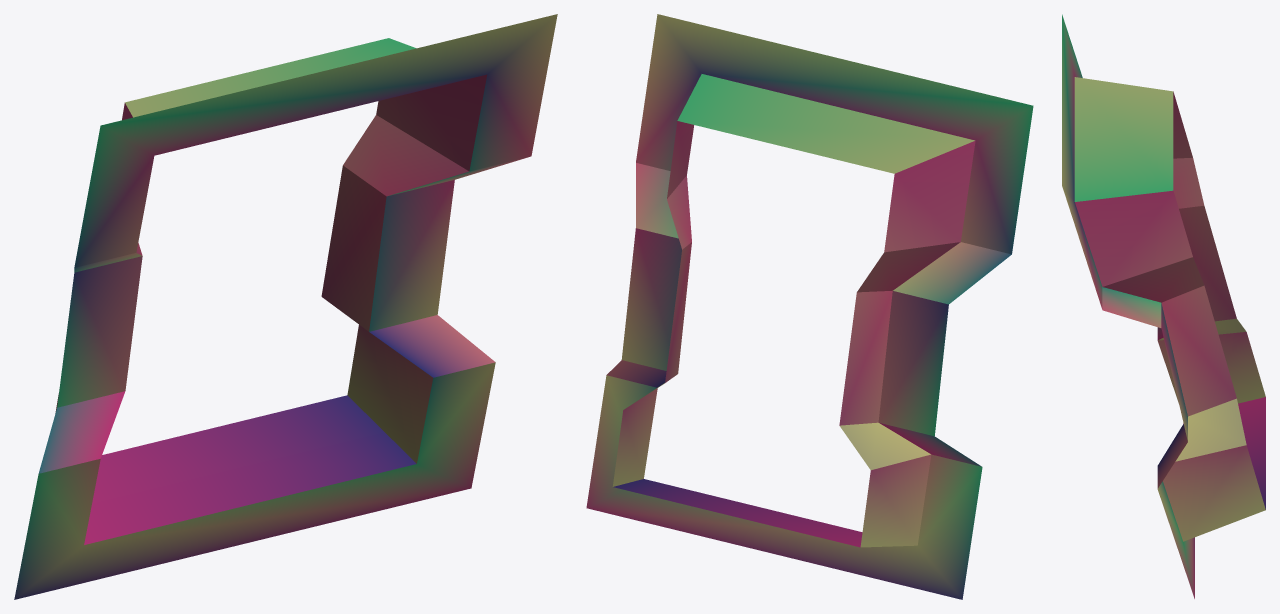
The model's file is Eff_Nostradamus_weapon09.fbx.
The picture shows the model from 3 angles, left to right: view 1: azimuth 30°, elevation 25°; view 2: azimuth 150°, elevation 25°; view 3: azimuth 270°, elevation 25°; orthographic projection. The views are drawn at different scales.
Parts seen in each view (by area): view 1: Eff_Nostradamus_weapon09; view 2: Eff_Nostradamus_weapon09; view 3: Eff_Nostradamus_weapon09.
Boxes of the visible parts, x1,y1,x2,y2 form: Eff_Nostradamus_weapon09: [14, 14, 557, 599]; Eff_Nostradamus_weapon09: [586, 14, 1033, 599]; Eff_Nostradamus_weapon09: [1062, 14, 1265, 598].
Bounding box in the file's own units: 0.1959 × 0.2201 × 0.0982.
